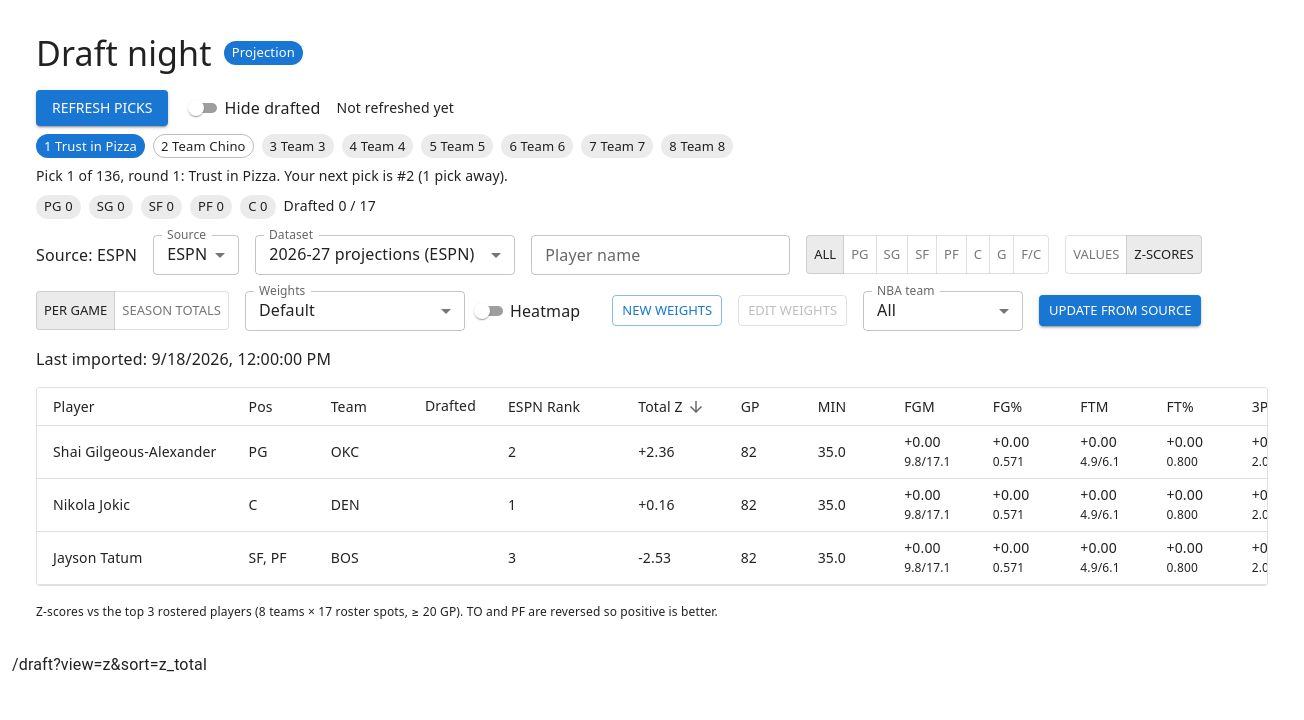
it: a 503 from refresh shows the ESPN credentials message
The width and height of the screenshot is (1304, 720).
Expected: the text "Nikola Jokic" is shown, [37,479,232,532]
Expected: the text "Not refreshed yet" is shown, [336,98,454,118]
Click the button "Refresh picks" at point(102, 108), box [36,90,168,126]
(page scrolled)
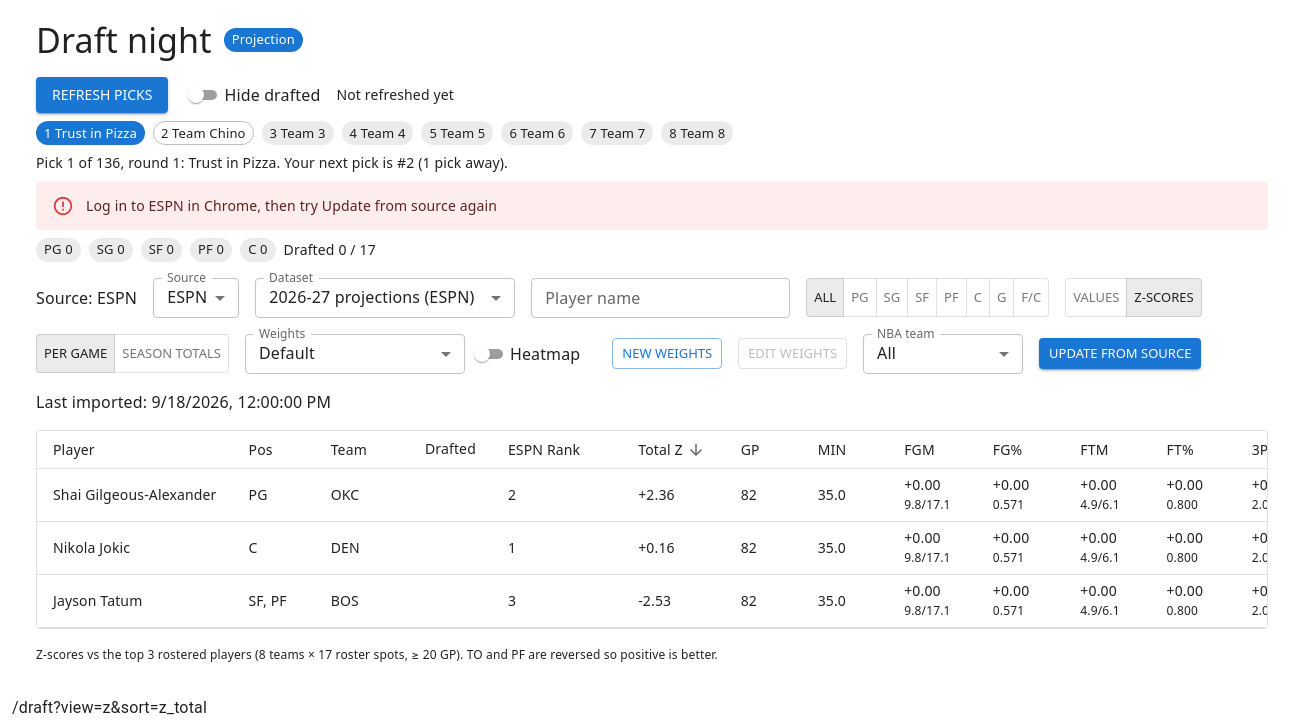
Expected: the text "Nikola Jokic" is shown, [53,538,130,557]
Expected: the message shows "Log in to ESPN in Chrome", [86,196,497,214]
